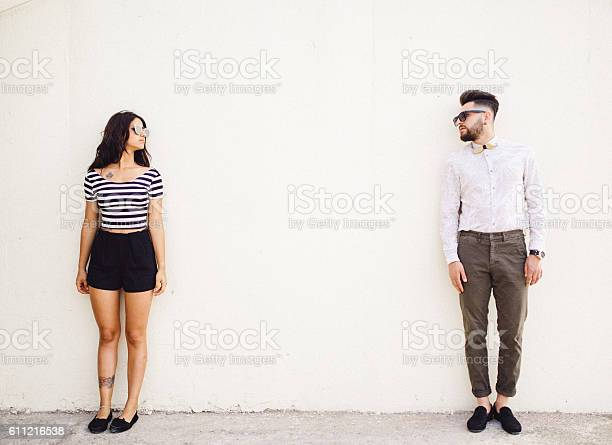person: (438, 90, 542, 432), (76, 111, 168, 431)
